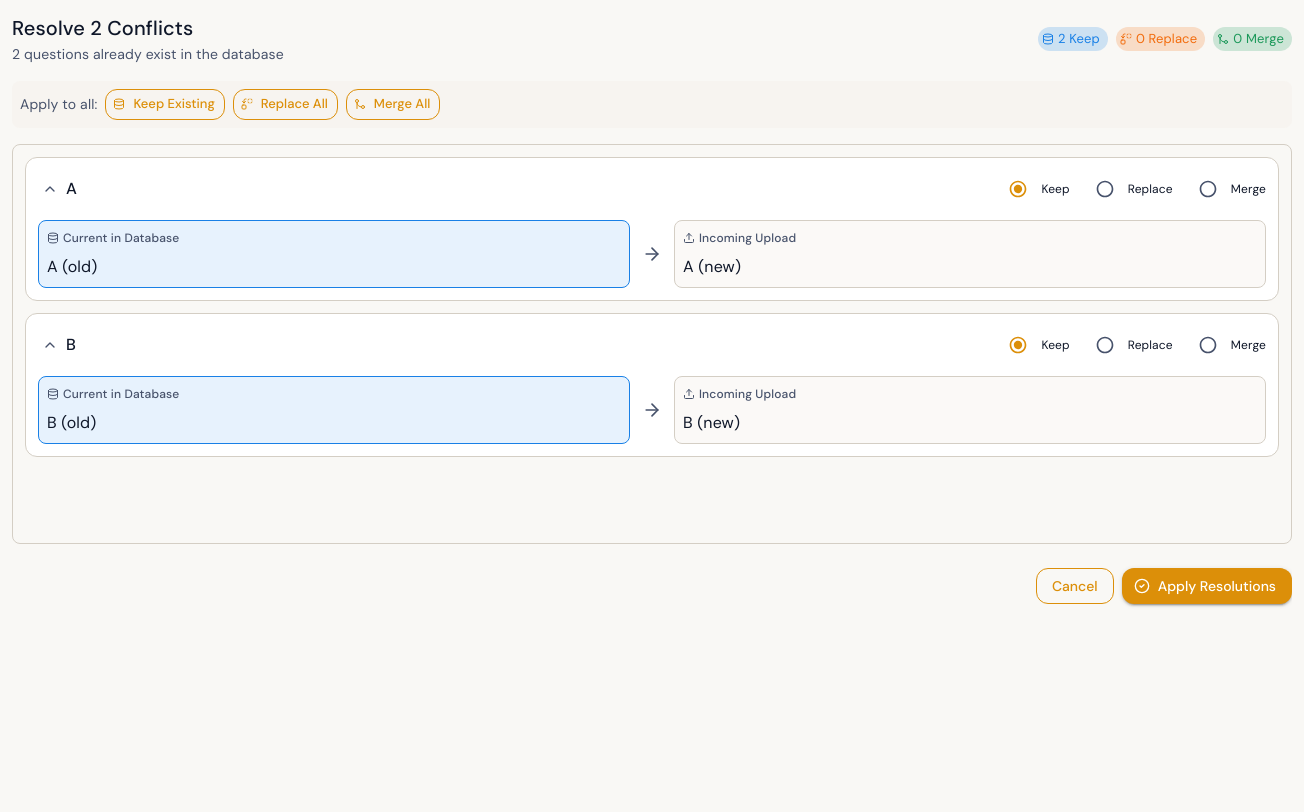
Test: ConflictResolutionDialog › counts how each conflict is currently set
Expected: the text "2 Keep" is shown, left=1058, top=30, right=1100, bottom=47
Click the 1st radio button labelled "Replace" at (1134, 189), box left=1095, top=179, right=1173, bottom=199
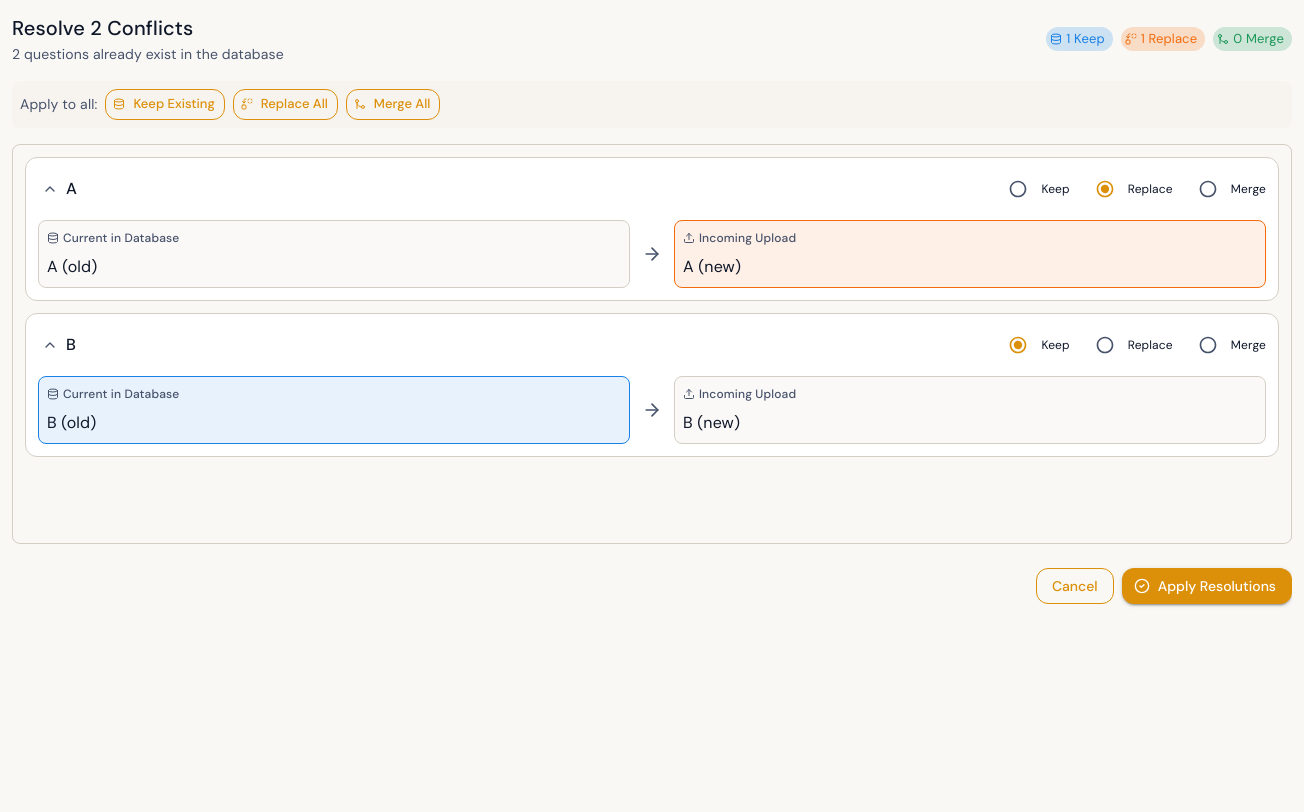
Expected: the text "1 Keep" is shown, left=1066, top=30, right=1105, bottom=47
Expected: the text "1 Replace" is shown, left=1141, top=30, right=1197, bottom=47
